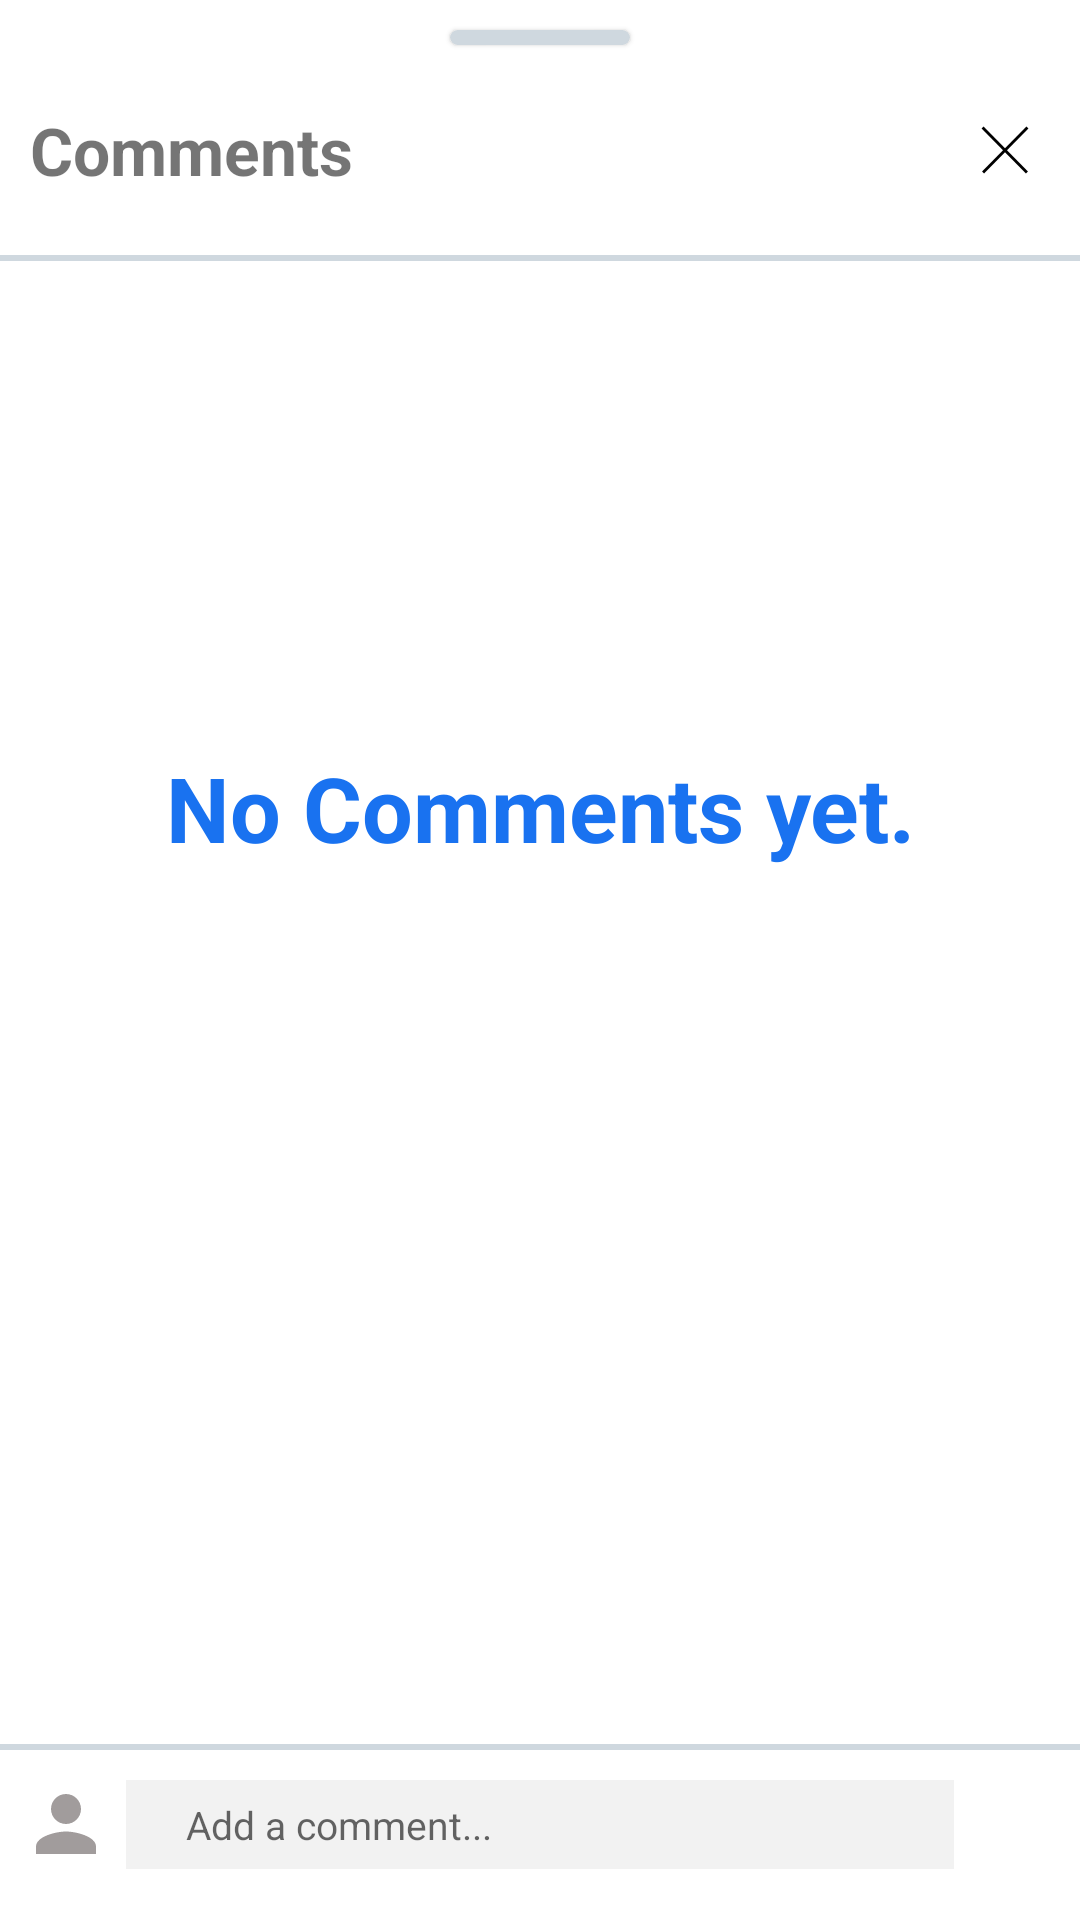

Locate icon controls on the screen. Image size 1080*1920, boxes as box=[x1, y1, x2, y2].
cross: box=[981, 126, 1029, 174]
person: box=[36, 1794, 96, 1854]
